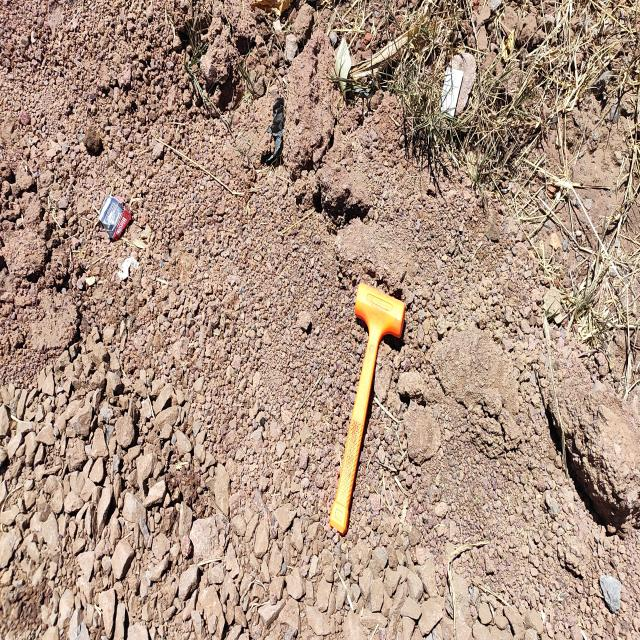Orange_hammer: (329, 281, 406, 536)
